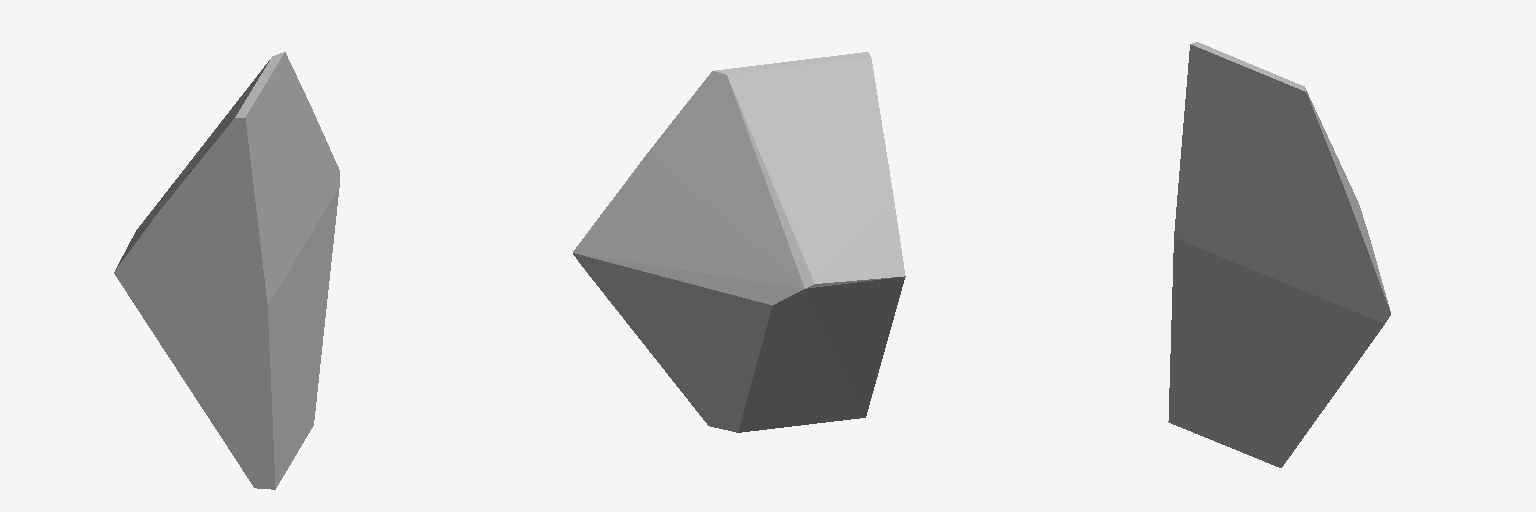
The model's file is li-fang-ti-.001_cell.074.obj.
The picture shows the model from 3 angles: view 1: azimuth 30°, elevation 25°; view 2: azimuth 150°, elevation 25°; view 3: azimuth 270°, elevation 25°; orthographic projection.
Visible parts, largest first — view 1: 立方体.001_cell.074; view 2: 立方体.001_cell.074; view 3: 立方体.001_cell.074.
Part boxes in pixels (x1,y1,x2,y2): 立方体.001_cell.074: (114, 52, 339, 489); 立方体.001_cell.074: (573, 52, 905, 432); 立方体.001_cell.074: (1168, 42, 1390, 467).
Size of the model in its own units: 0.1813 by 0.2289 by 0.1252.